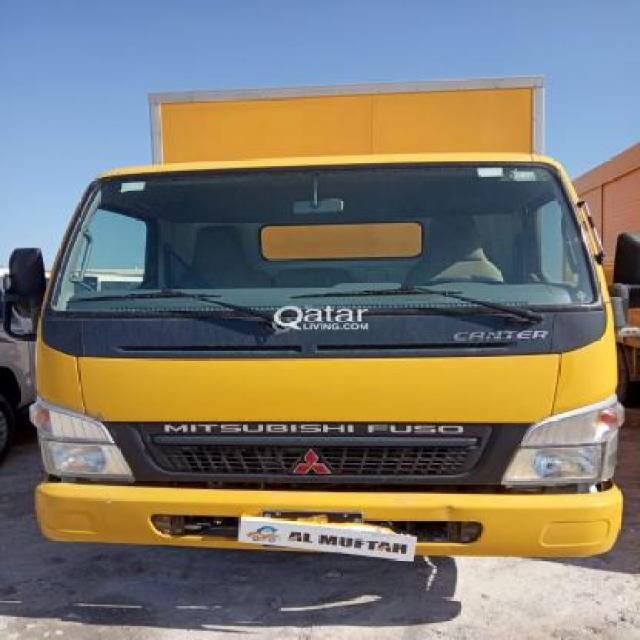truck: (8, 77, 640, 558)
